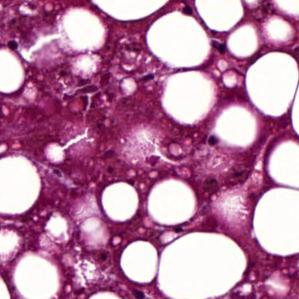steatosis: (147, 9, 209, 68), (119, 237, 162, 284), (99, 182, 142, 222)
